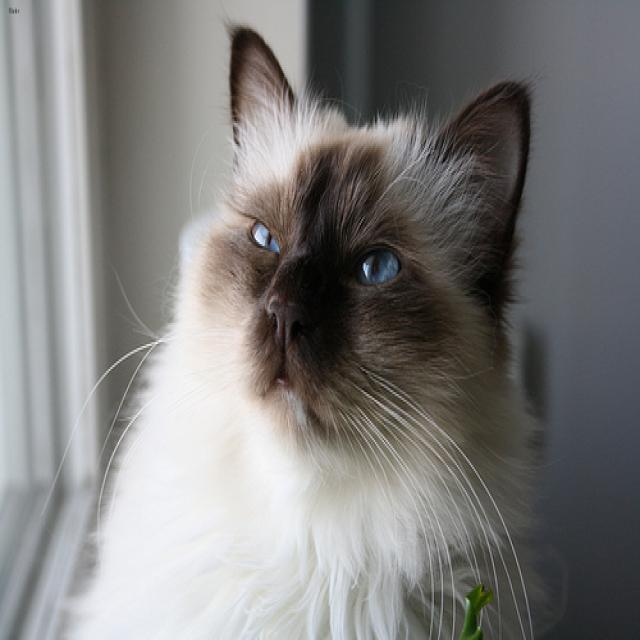cat: (201, 23, 527, 461)
